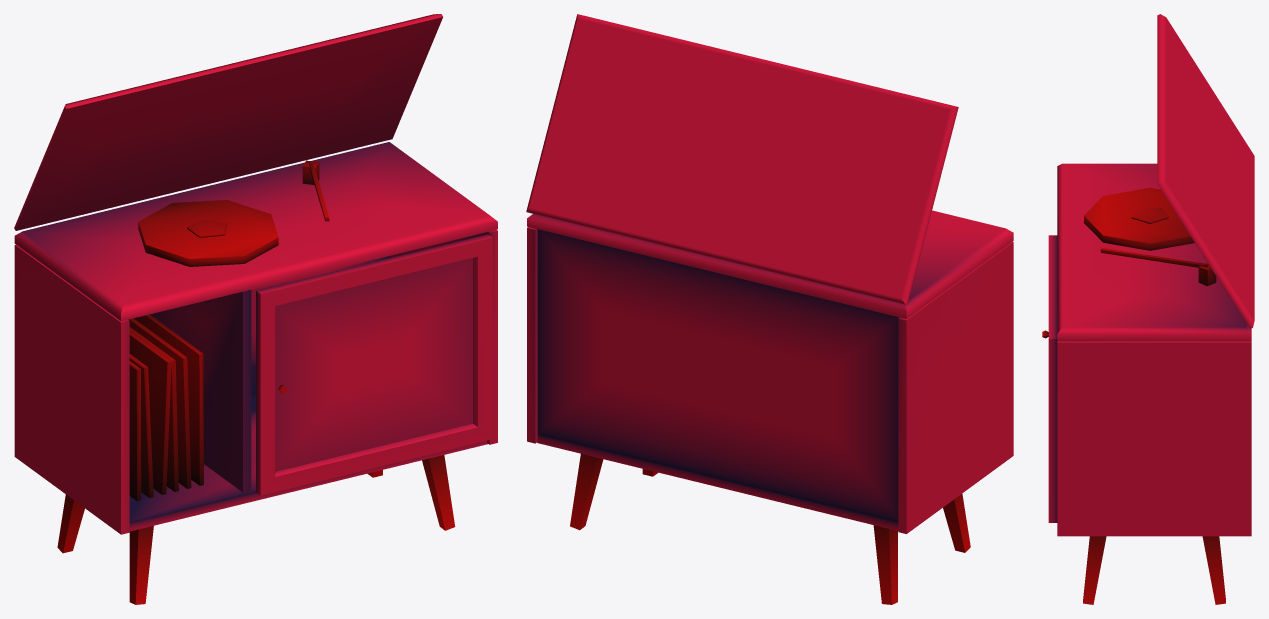
Rendered from CI_Living_RecordCabinet.glb.
3 renders of one model, left to right at view 1: azimuth 30°, elevation 25°; view 2: azimuth 150°, elevation 25°; view 3: azimuth 270°, elevation 25°, orthographic. The views are drawn at different scales.
Parts seen in each view (by area): view 1: CI_Living_RecordCabinet; view 2: CI_Living_RecordCabinet; view 3: CI_Living_RecordCabinet.
Boxes of the visible parts, x1=… form: CI_Living_RecordCabinet: x1=14, y1=14, x2=497, y2=604; CI_Living_RecordCabinet: x1=526, y1=14, x2=1013, y2=604; CI_Living_RecordCabinet: x1=1042, y1=14, x2=1254, y2=604.
Bounding box in the file's own units: 0.9 × 1.09 × 0.4806.
